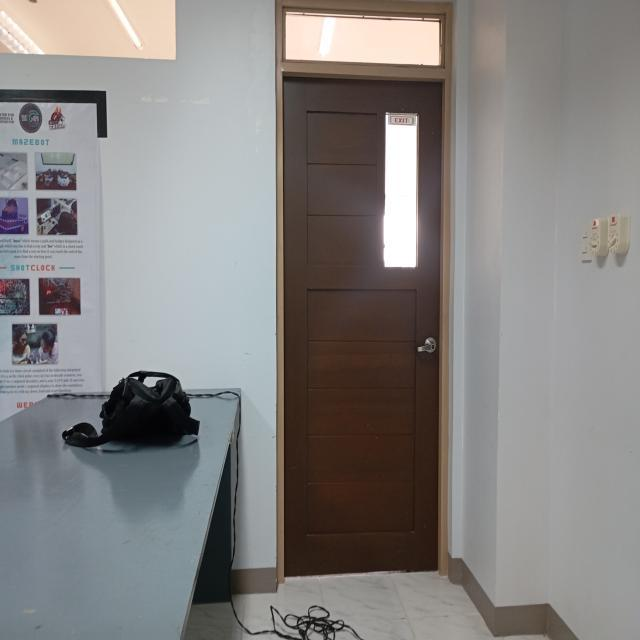door: (268, 0, 455, 591)
